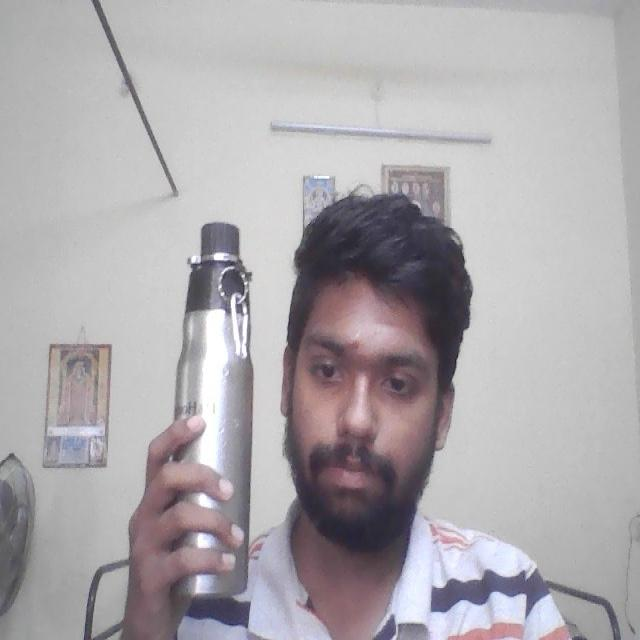Drinking: (153, 212, 257, 612)
